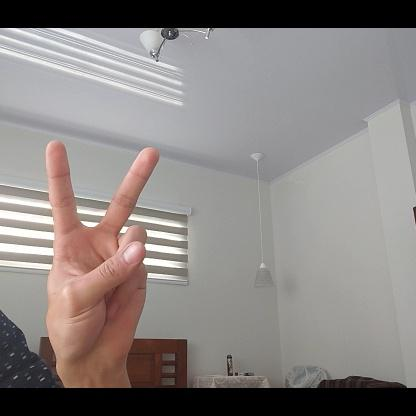V: (46, 133, 161, 364)
